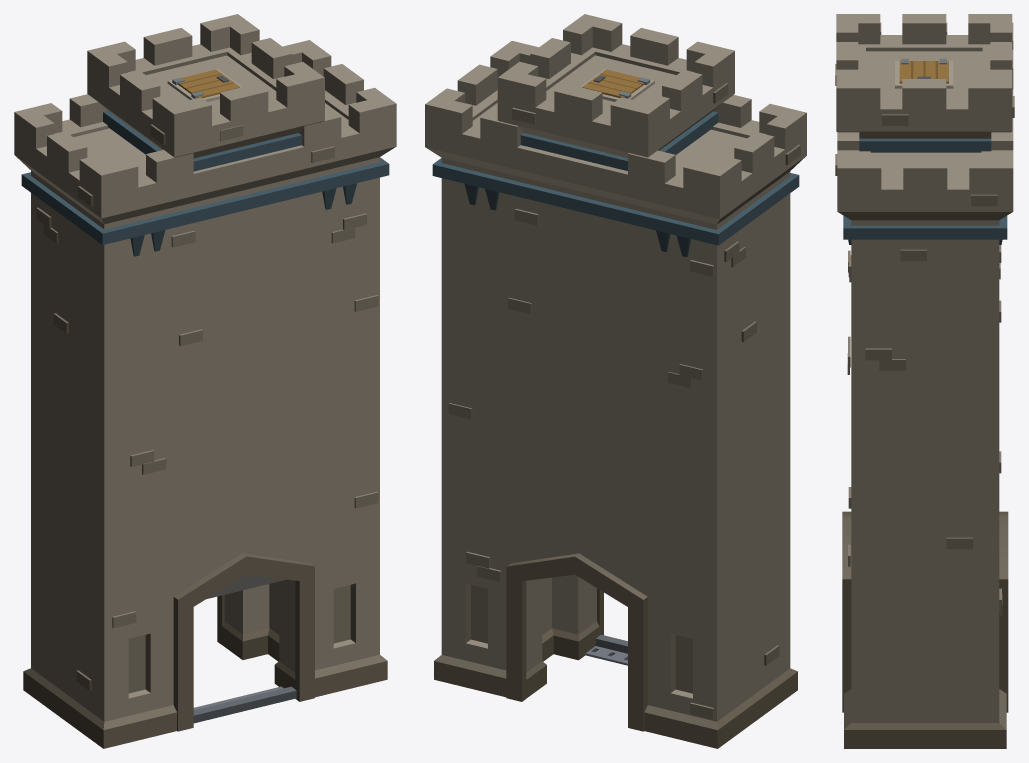
The model's file is SF_Bld_Castle_Gate_02.fbx.
The picture shows the model from 3 angles, left to right: view 1: azimuth 30°, elevation 25°; view 2: azimuth 150°, elevation 25°; view 3: azimuth 270°, elevation 25°; orthographic projection.
Visible parts, largest first — view 1: SF_Bld_Castle_Gate_02; view 2: SF_Bld_Castle_Gate_02; view 3: SF_Bld_Castle_Gate_02.
Boxes of the visible parts, x1,y1,x2,y2 form: SF_Bld_Castle_Gate_02: (14,14,396,748); SF_Bld_Castle_Gate_02: (425,14,806,748); SF_Bld_Castle_Gate_02: (835,14,1014,748).
Bounding box in the file's own units: 16.31 × 32.31 × 8.36.
